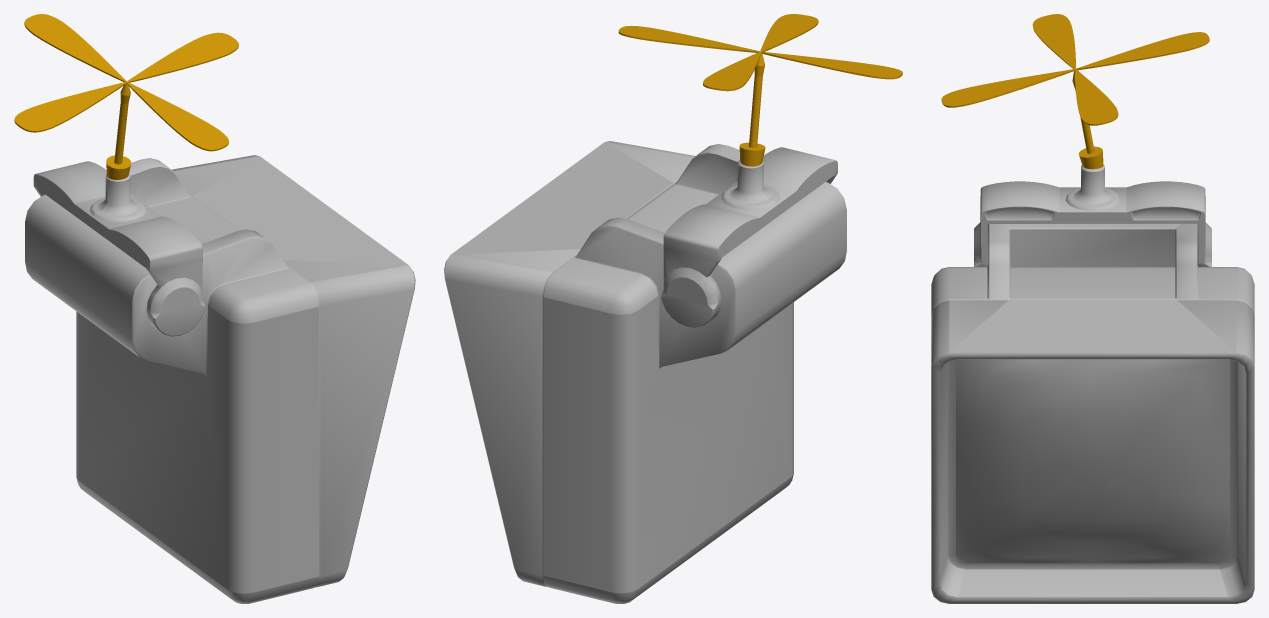
The model's file is Propeller_TV.fbx.
The picture shows the model from 3 angles, left to right: view 1: azimuth 30°, elevation 25°; view 2: azimuth 150°, elevation 25°; view 3: azimuth 270°, elevation 25°; orthographic projection. The views are drawn at different scales.
Visible parts, largest first — view 1: Body_low, Mount_low, Propeller; view 2: Body_low, Mount_low, Propeller; view 3: Body_low, Mount_low, Propeller.
Part boxes in pixels (x1,y1,x2,y2): Body_low: [25, 155, 415, 603]; Mount_low: [33, 161, 204, 336]; Propeller: [14, 14, 238, 179]; Body_low: [444, 141, 846, 603]; Mount_low: [661, 147, 837, 328]; Propeller: [618, 14, 902, 166]; Body_low: [931, 224, 1254, 603]; Mount_low: [974, 164, 1211, 266]; Propeller: [941, 14, 1209, 169].
Size of the model in its own units: 460 by 656 by 393.
